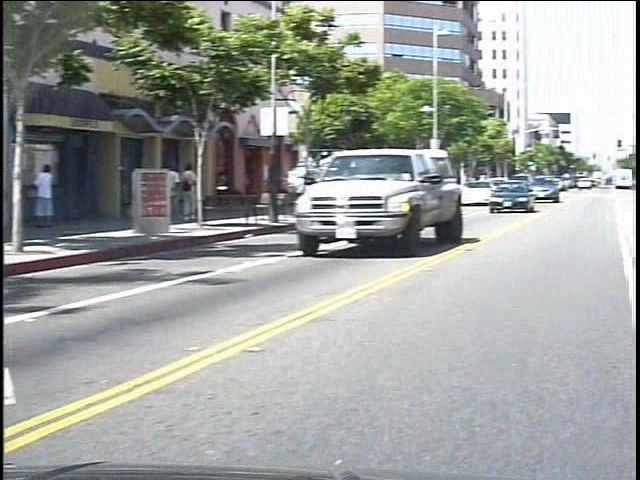person: (47, 160, 76, 235), (191, 163, 213, 227), (175, 161, 196, 226)
